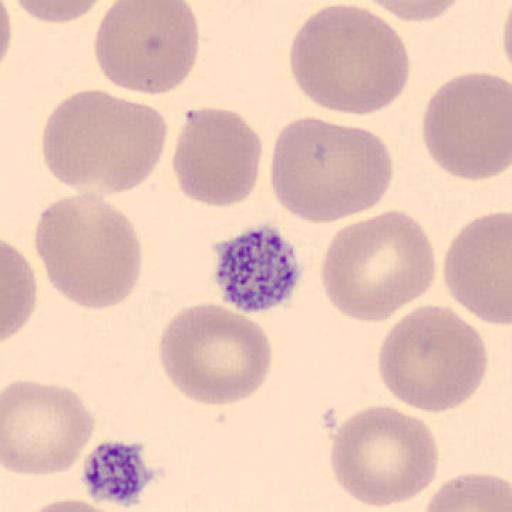Platelet: (212, 221, 306, 315), (79, 437, 159, 509)
RBC: (288, 1, 412, 117), (39, 89, 170, 195), (320, 208, 438, 324), (269, 116, 394, 225), (33, 191, 143, 311), (376, 303, 490, 415), (158, 300, 272, 407), (329, 404, 440, 510), (92, 0, 200, 96), (422, 71, 511, 183), (171, 104, 264, 209), (1, 378, 97, 478), (442, 211, 512, 326), (2, 238, 38, 344), (422, 471, 512, 512), (358, 0, 468, 23), (12, 0, 109, 24), (20, 495, 122, 512), (0, 0, 11, 89), (0, 0, 13, 71), (503, 0, 512, 85), (502, 0, 512, 69)
